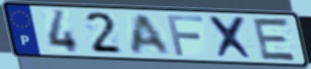2: (82, 11, 123, 56)
4: (47, 8, 79, 54)
A: (130, 13, 174, 56)
E: (251, 16, 300, 63)
F: (164, 14, 206, 58)
X: (206, 14, 258, 61)
